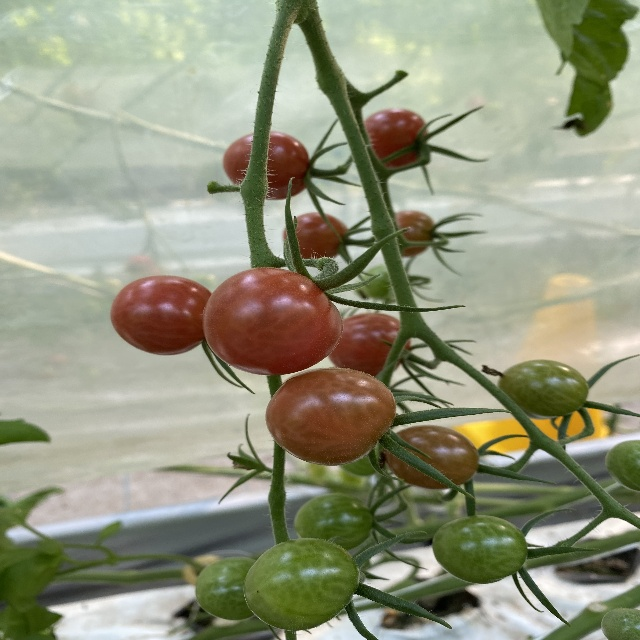l_fully_ripened: (202, 267, 344, 376), (109, 274, 212, 356), (221, 131, 315, 199), (330, 313, 409, 378), (363, 107, 428, 169), (283, 213, 348, 259)
l_green: (242, 537, 361, 631), (430, 516, 529, 585), (495, 359, 589, 418), (292, 492, 376, 550), (194, 557, 256, 621), (605, 439, 640, 493), (600, 607, 639, 639)
l_half_ripened: (264, 366, 396, 467), (382, 426, 479, 490), (396, 209, 435, 257)
